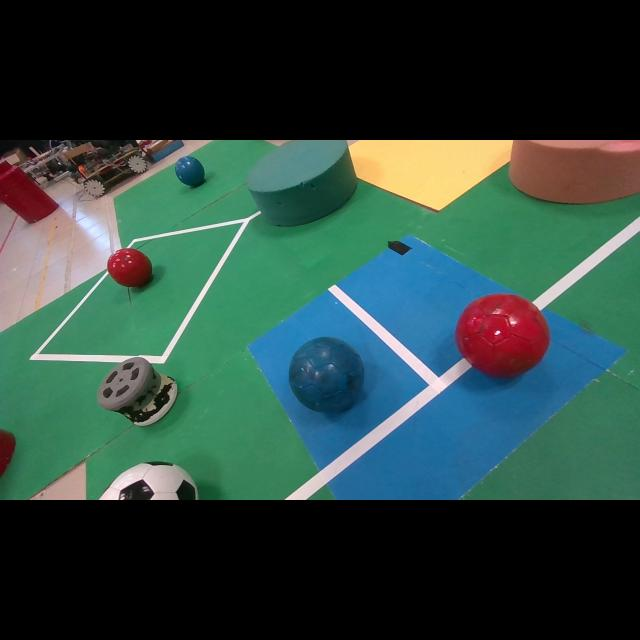B: (289, 336, 364, 412), (175, 156, 204, 187)
R: (455, 294, 550, 377), (108, 249, 152, 287)
